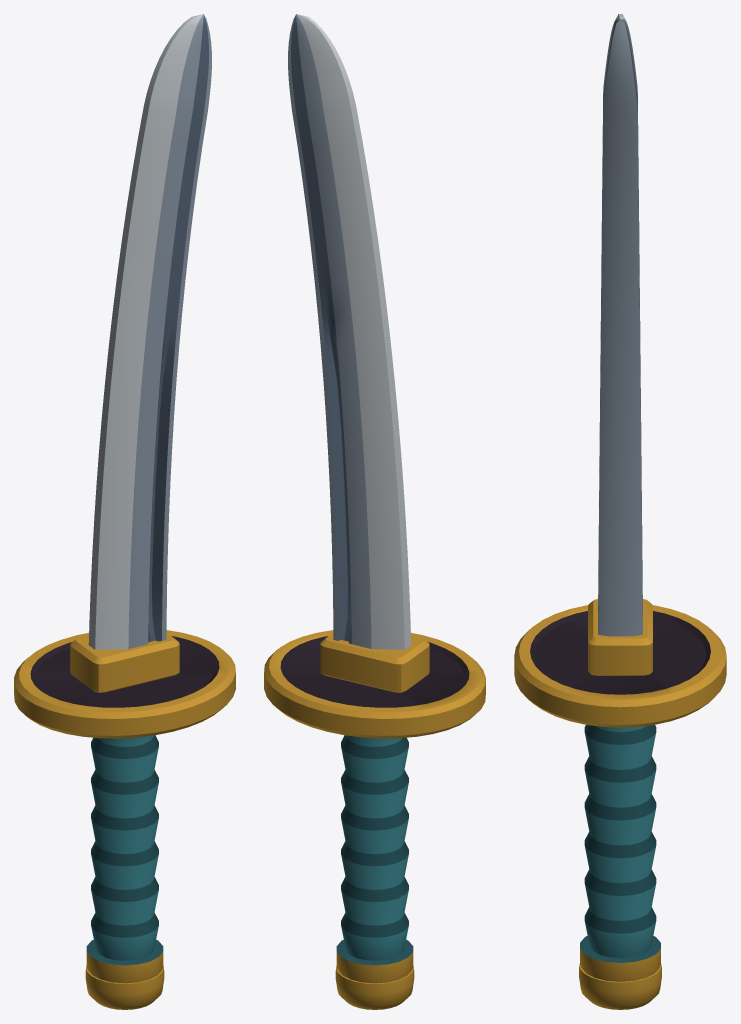
File: Katana_15.glb
3 views of the same model, side by side, from view 1: azimuth 30°, elevation 25°; view 2: azimuth 150°, elevation 25°; view 3: azimuth 270°, elevation 25° (orthographic). The views are drawn at different scales.
Visible parts, largest first — view 1: Katana_15; view 2: Katana_15; view 3: Katana_15.
Boxes of the visible parts, x1,y1,x2,y2 form: Katana_15: [14, 14, 235, 1009]; Katana_15: [264, 14, 485, 1009]; Katana_15: [514, 14, 726, 1009].
Size of the model in its own units: 1.35 by 6.26 by 1.18.
